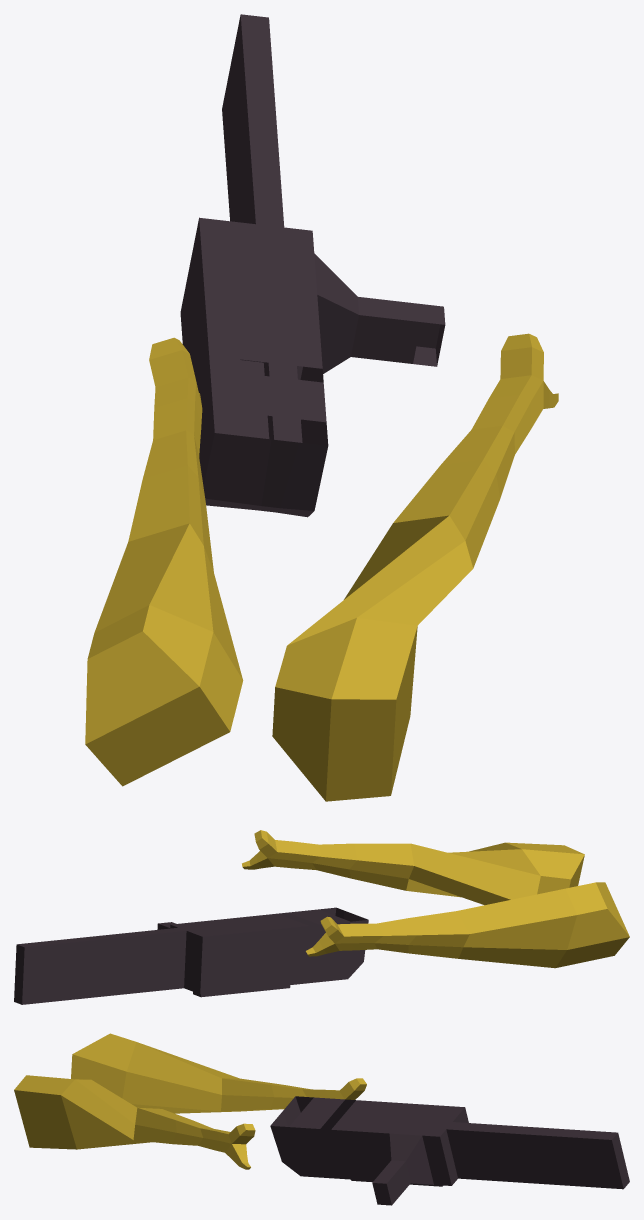
The model's file is arme_000089.obj.
3 renders of one model, top to bottom at view 1: azimuth 30°, elevation 25°; view 2: azimuth 150°, elevation 25°; view 3: azimuth 270°, elevation 25°, orthographic. The views are drawn at different scales.
Visible parts, largest first — view 1: Cube.048_Cube.024, Cube.046_Cube.010; view 2: Cube.048_Cube.024, Cube.046_Cube.010; view 3: Cube.046_Cube.010, Cube.048_Cube.024.
Boxes of the visible parts, bbox=[...] form: Cube.048_Cube.024: bbox=[85, 333, 558, 801]; Cube.046_Cube.010: bbox=[180, 14, 445, 517]; Cube.048_Cube.024: bbox=[242, 830, 629, 968]; Cube.046_Cube.010: bbox=[14, 907, 368, 1004]; Cube.046_Cube.010: bbox=[270, 1096, 629, 1205]; Cube.048_Cube.024: bbox=[14, 1033, 366, 1169].
Bounding box in the file's own units: 1525 × 521 × 2358.
